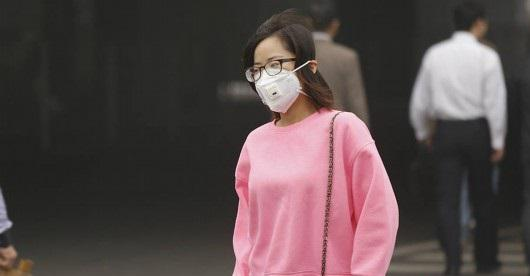OK: (251, 49, 299, 113)
